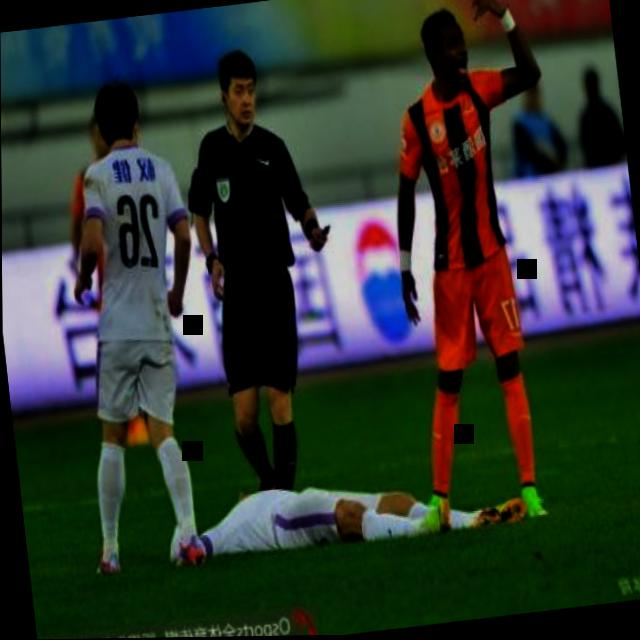Fall-Detected: (179, 433, 535, 569)
